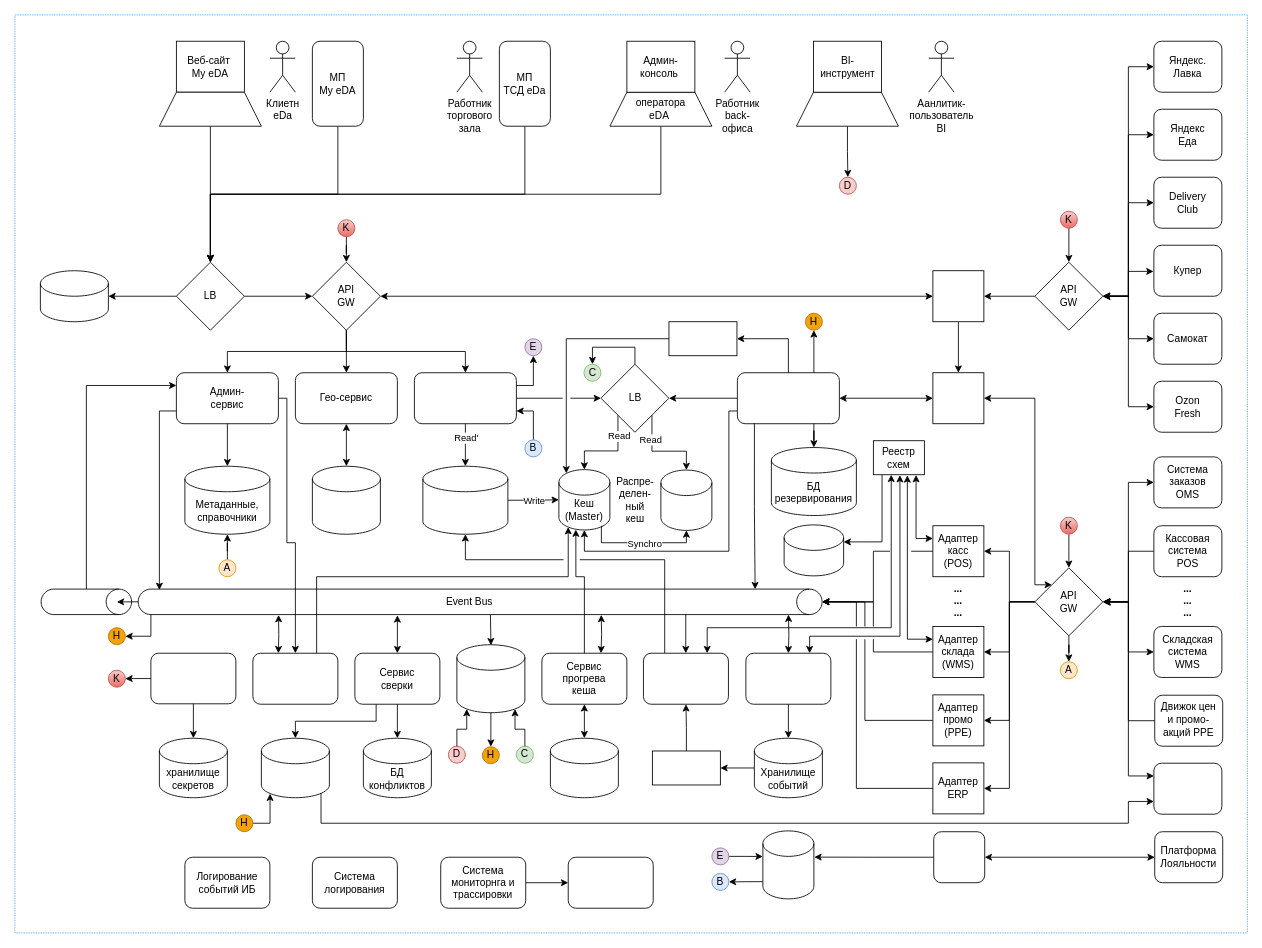
Image size: 1262x948. Some labels were removed from this diagram. The shapes that lost their labels are listed below. From the top down, each one's centre as x and y in pixels, then its label:
At pixel 847 108: "Управление категориями eDA Service".
At pixel 74 296: "CDN".
At pixel 958 296: "Адептер служб доставки".
At pixel 702 338: "Менеджер блокировок".
At pixel 465 398: "Сервис запросов".
At pixel 788 398: "Сервис резервирования".
At pixel 958 398: "Адаптер заказов (OMS)".
At pixel 346 499: "Гео-индекс, координаты".
At pixel 465 499: "Хранилище модели чтения".
At pixel 686 499: "Кеш (Replica)".
At pixel 813 550: "БД реестра схем".
At pixel 86 601: "Очередь ошибок".
At pixel 193 678: "Управление секретами".
At pixel 295 678: "Сервис синхронизации кеша".
At pixel 490 678: "Хранилище временных рядов".
At pixel 685 678: "Загрузчик моделей чтения".
At pixel 788 678: "Сервис комманд".
At pixel 295 767: "Архивное хранилище".
At pixel 584 767: "БД прогрева кеша".
At pixel 686 767: "Захват изменений".
At pixel 1187 788: "ERP- система".
At pixel 788 864: "Кеш лояль-ности".
At pixel 959 857: "Клиент Лояль-ности".
At pixel 610 882: "Оповещение".
